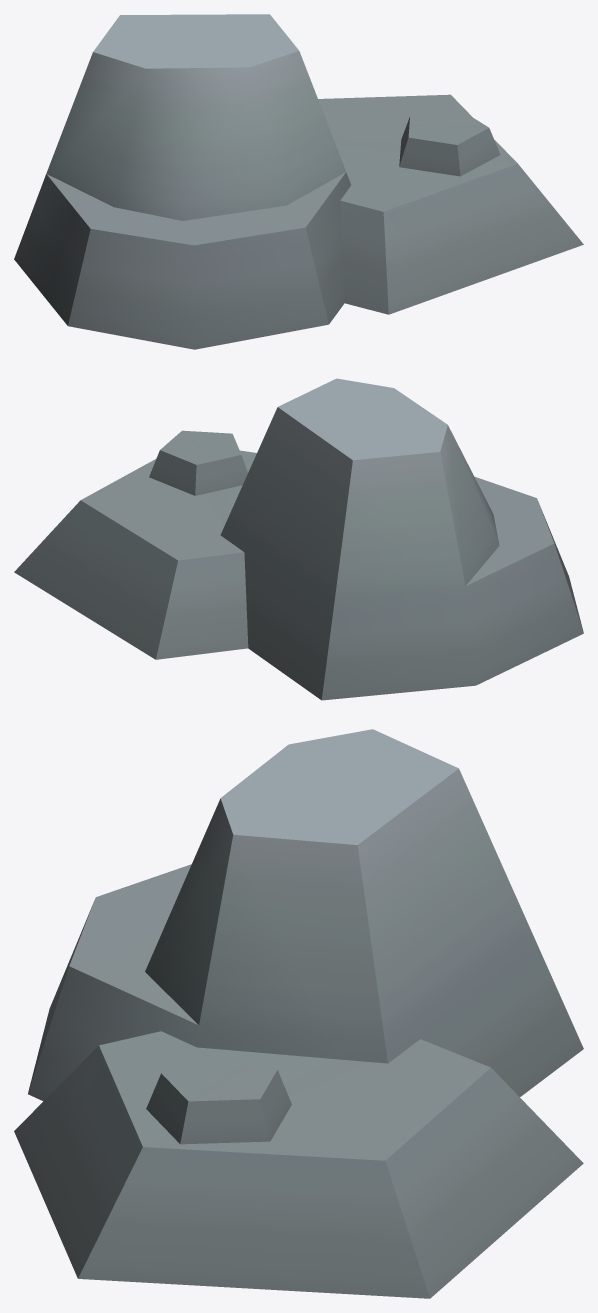
The model's file is rock_single_E.glb.
3 renders of one model, top to bottom at view 1: azimuth 30°, elevation 25°; view 2: azimuth 150°, elevation 25°; view 3: azimuth 270°, elevation 25°, orthographic. The views are drawn at different scales.
Visible parts, largest first — view 1: rock_single_E; view 2: rock_single_E; view 3: rock_single_E.
Boxes of the visible parts, <box> form: rock_single_E: <box>14,14,583,349</box>; rock_single_E: <box>14,378,583,700</box>; rock_single_E: <box>14,729,583,1298</box>.
Bounding box in the file's own units: 0.4881 × 0.1948 × 0.3475.
1 material, 1 textured.
